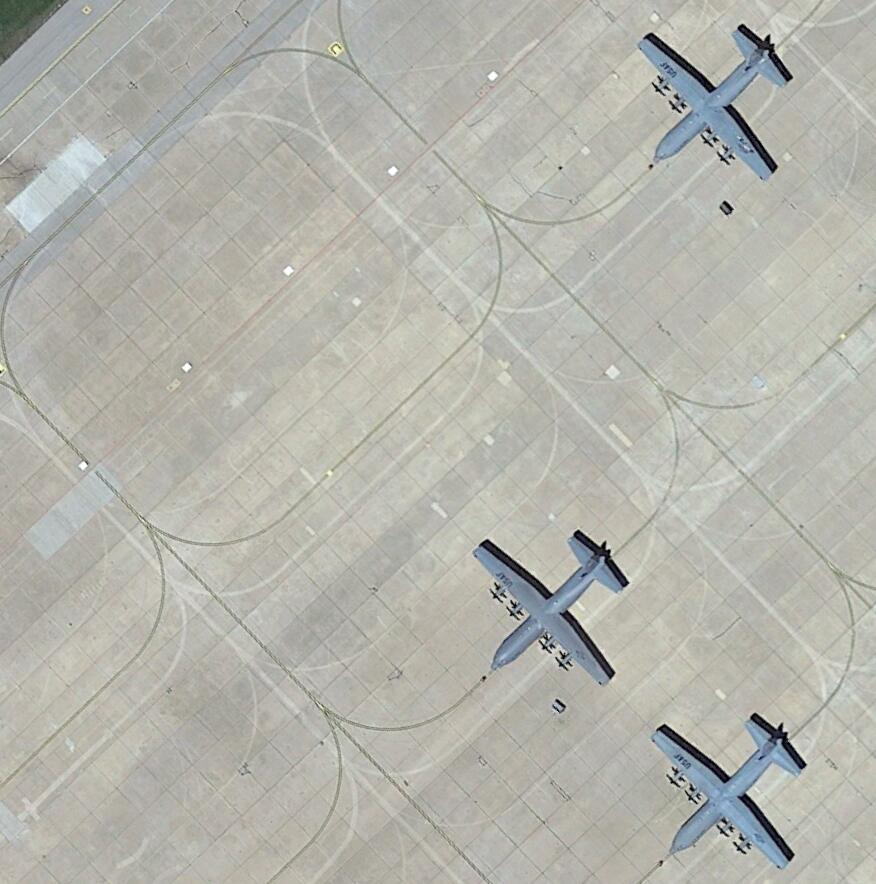A2: (630, 21, 797, 188), (473, 515, 630, 690), (642, 708, 807, 870)
